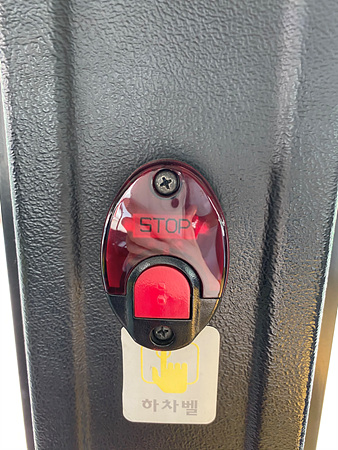bell: (102, 159, 227, 350)
